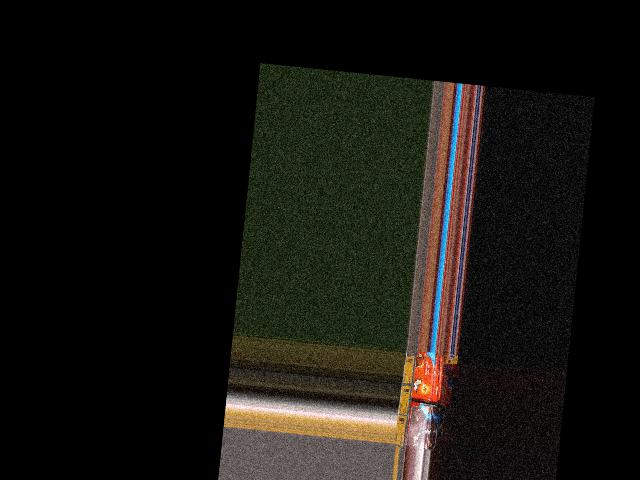chocolate: (400, 405, 431, 450)
